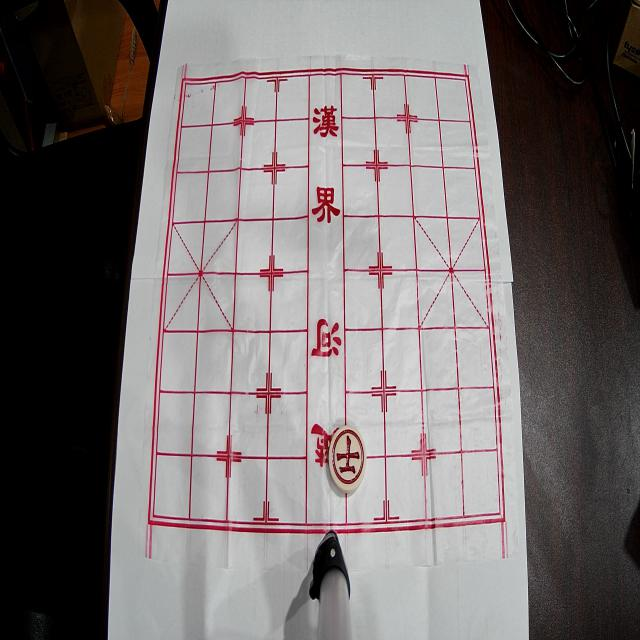red-guard: (328, 426, 366, 494)
